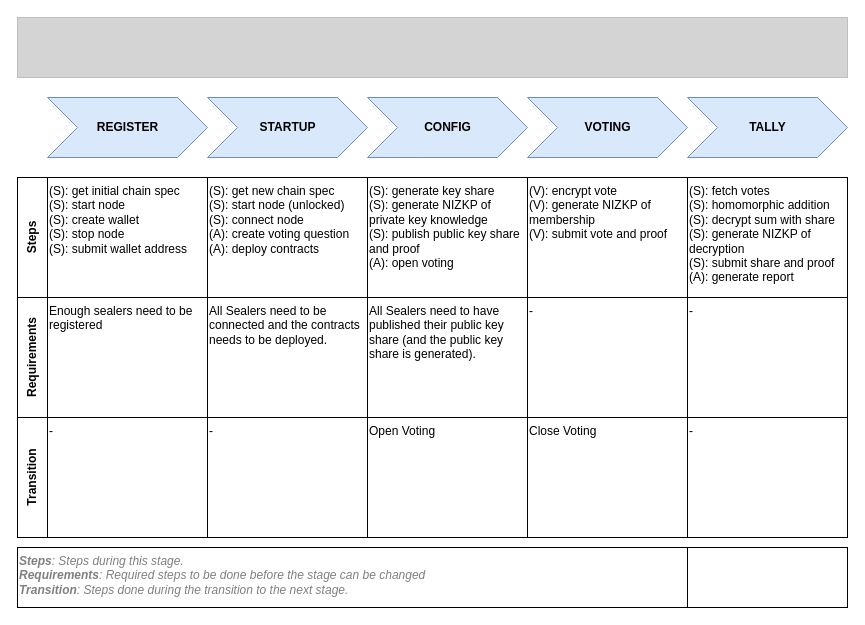
This 865x625 diagram has some shape labels left out. The shapes that lost their labels are listed below. From the top down, each one's centre as x and y in pixels, then its label:
the point at 432,47: Stages
the point at 767,577: (A): Voting Authority (S): Sealer Node (V): Voter
